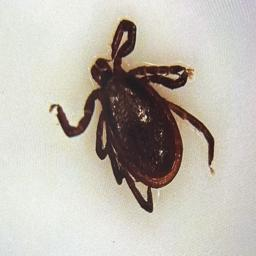Ixodes scapularis: (29, 87, 170, 256)
